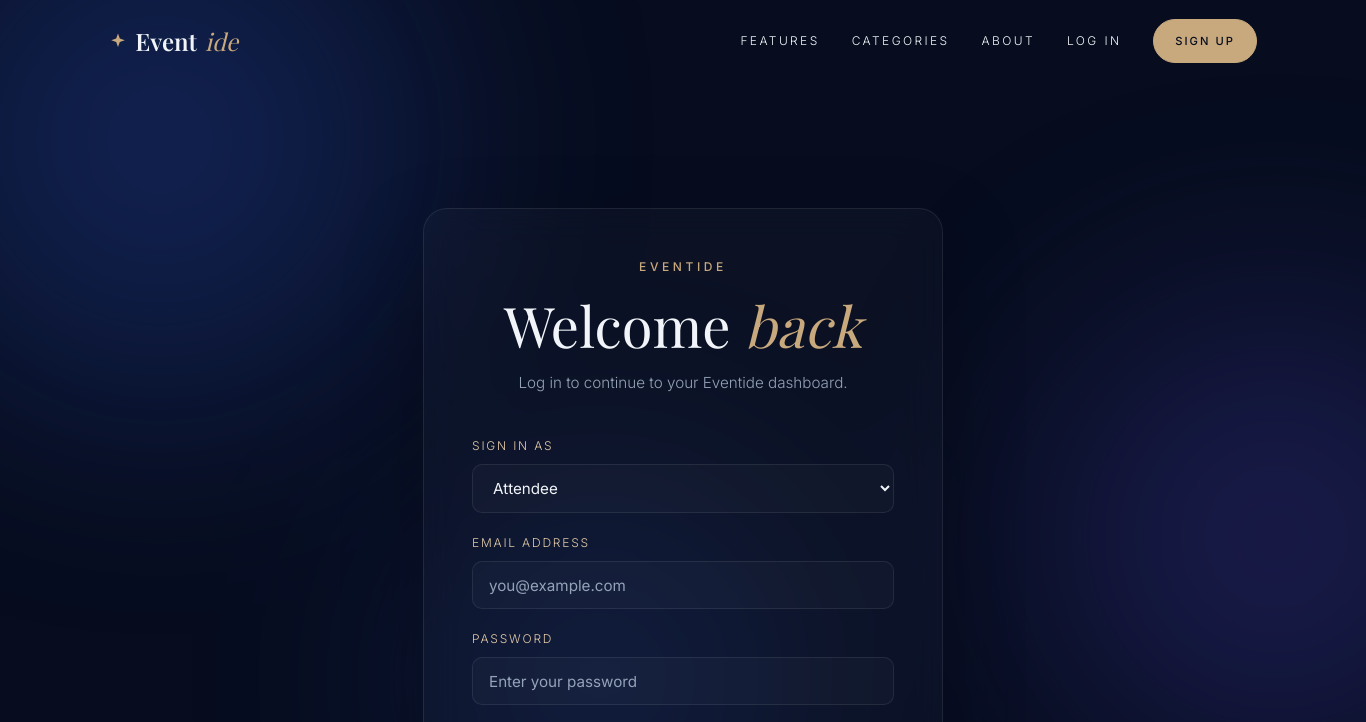
EMS-FR-03 login journey through the app › an attendee who logs in reaches the guarded attendee dashboard
The width and height of the screenshot is (1366, 722).
Type "att1@test.com" into the field labelled "Email address". click: point(683, 585)
box: [472,561,894,609]
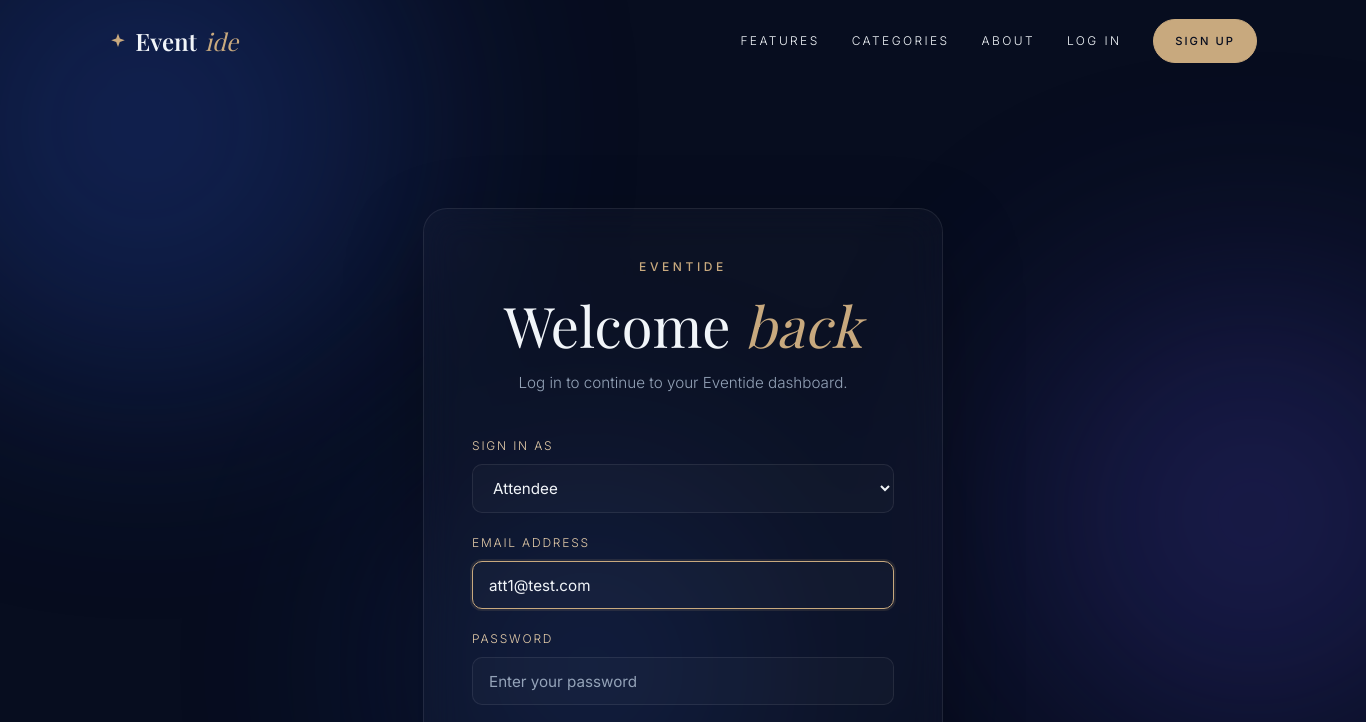
Type "Password123" into the password field labelled "Password". click: point(683, 681)
box: [472,657,894,705]
(page scrolled)
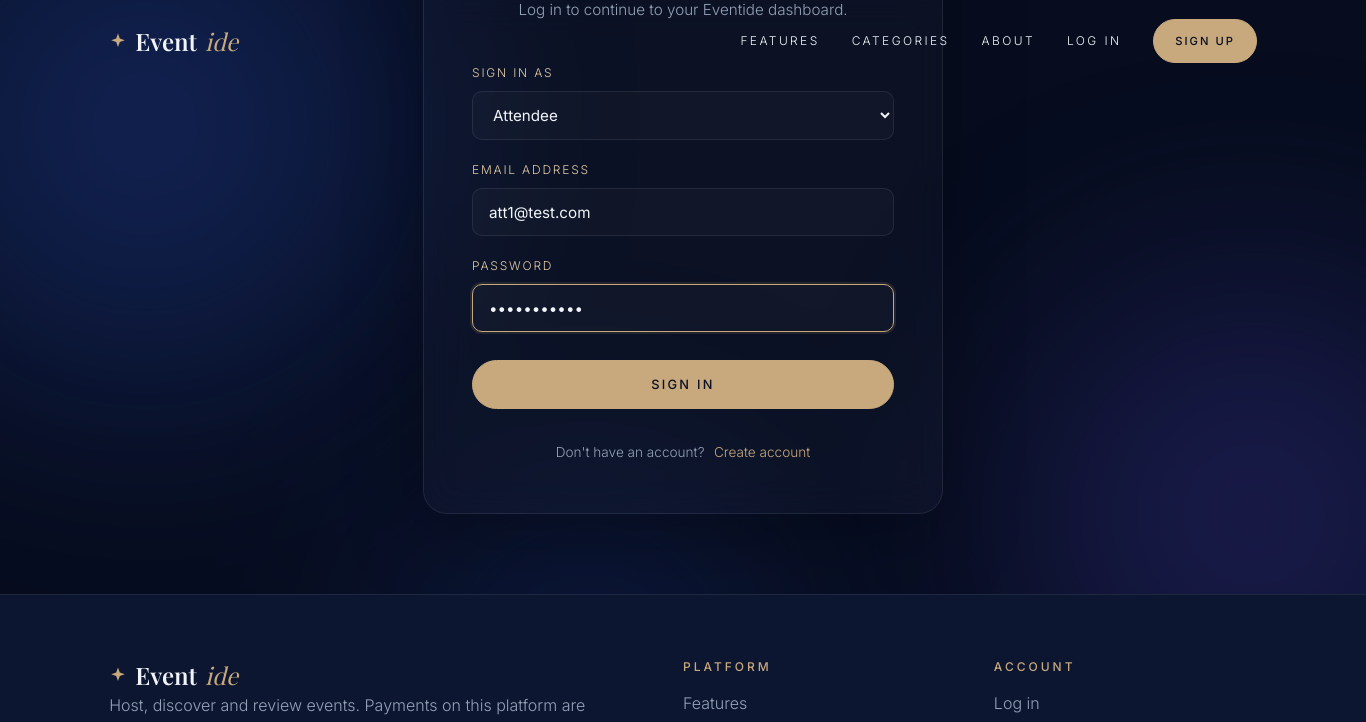
Click the button "Sign in". click: point(683, 385)
box: [472,360,894,409]
(page scrolled)
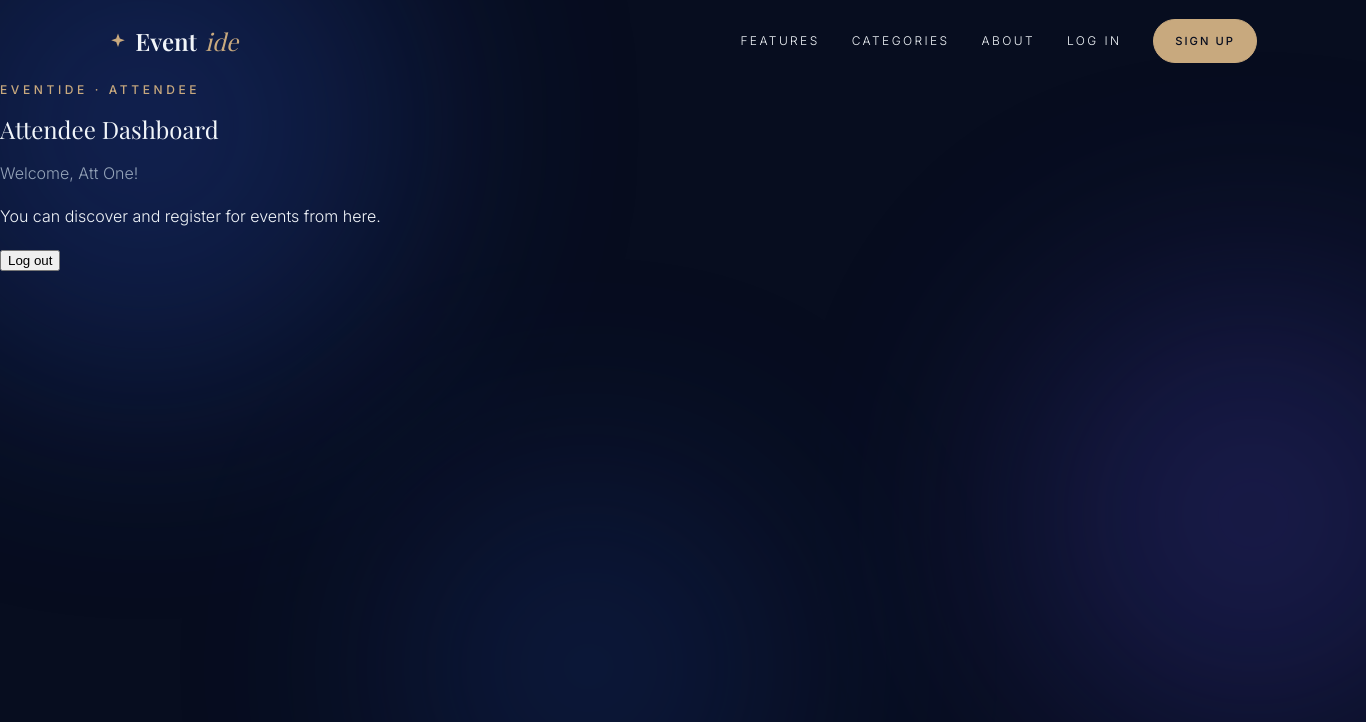
Result: the heading "Attendee Dashboard" is shown at [0,113,219,145]
